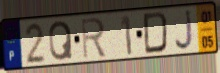1: (120, 14, 134, 57)
2: (23, 22, 47, 66)
D: (142, 10, 170, 56)
J: (173, 8, 195, 52)
Q: (48, 20, 75, 63)
R: (80, 16, 108, 61)
